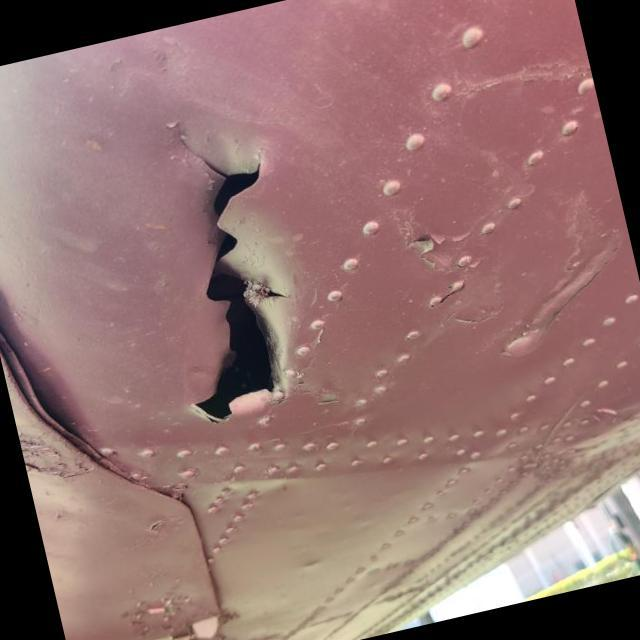Rupture: (116, 108, 342, 446)
